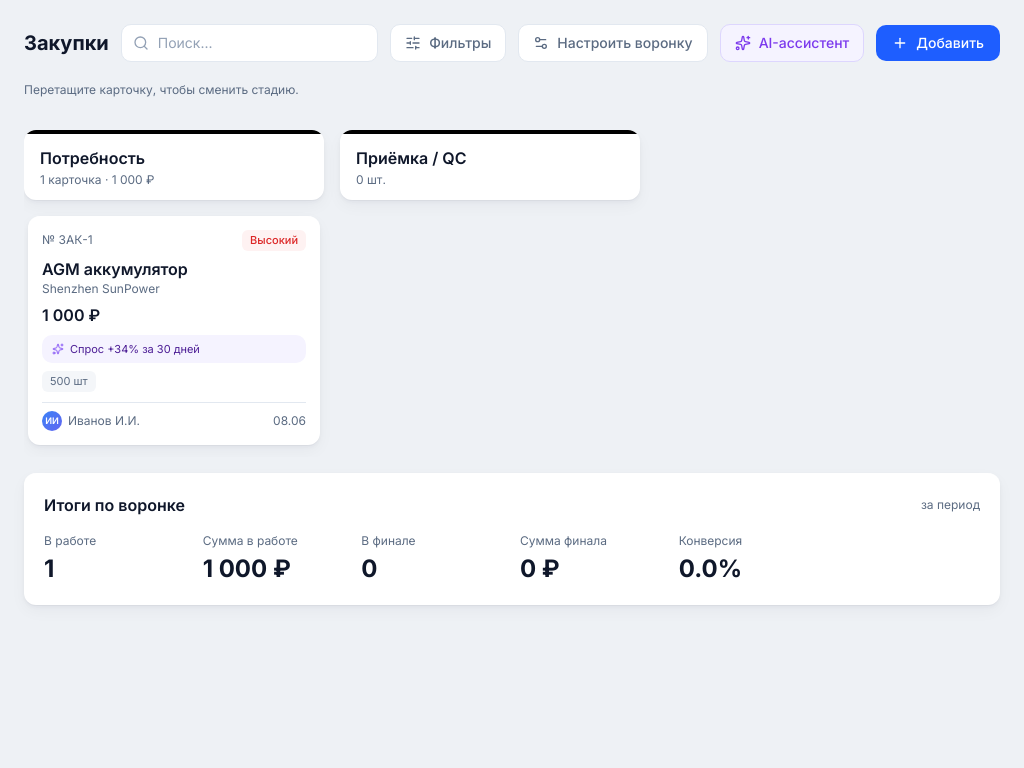
Scenario: FunnelBoard › клик по карточке открывает drawer с маршрутом этапов
Click the text "AGM аккумулятор": (115,268) [42,258,188,278]
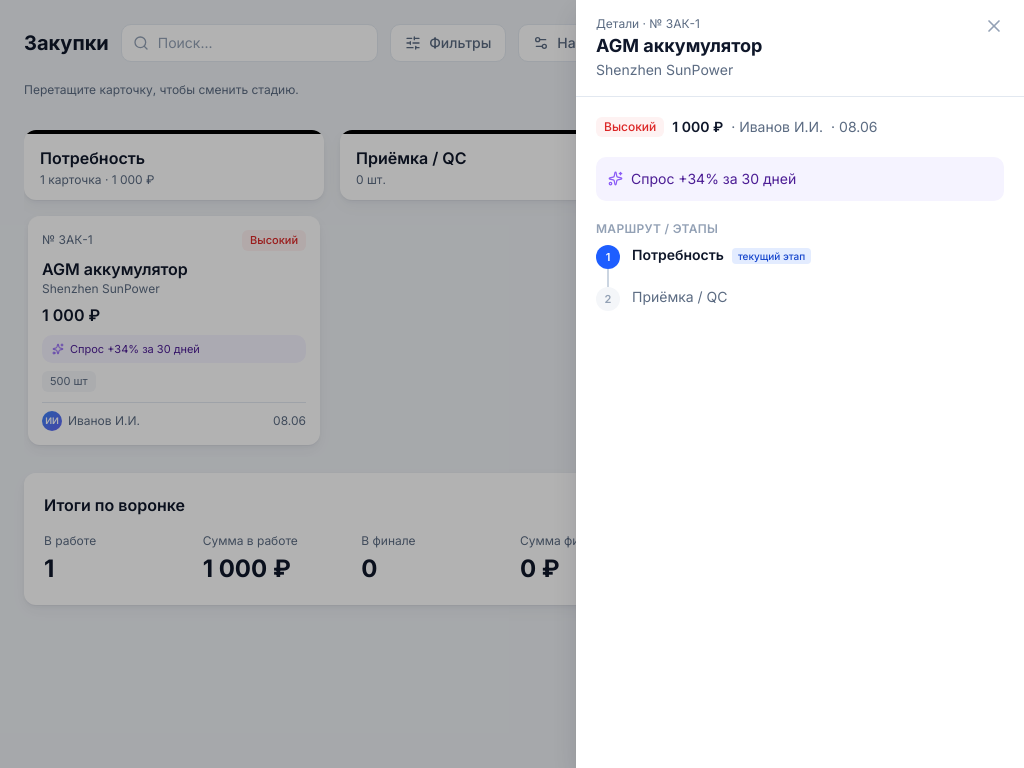
expect the text "Маршрут / этапы" is shown: met, box [596,221,718,236]
expect the text "Детали · № ЗАК-1" is shown: met, box [596,16,700,31]
